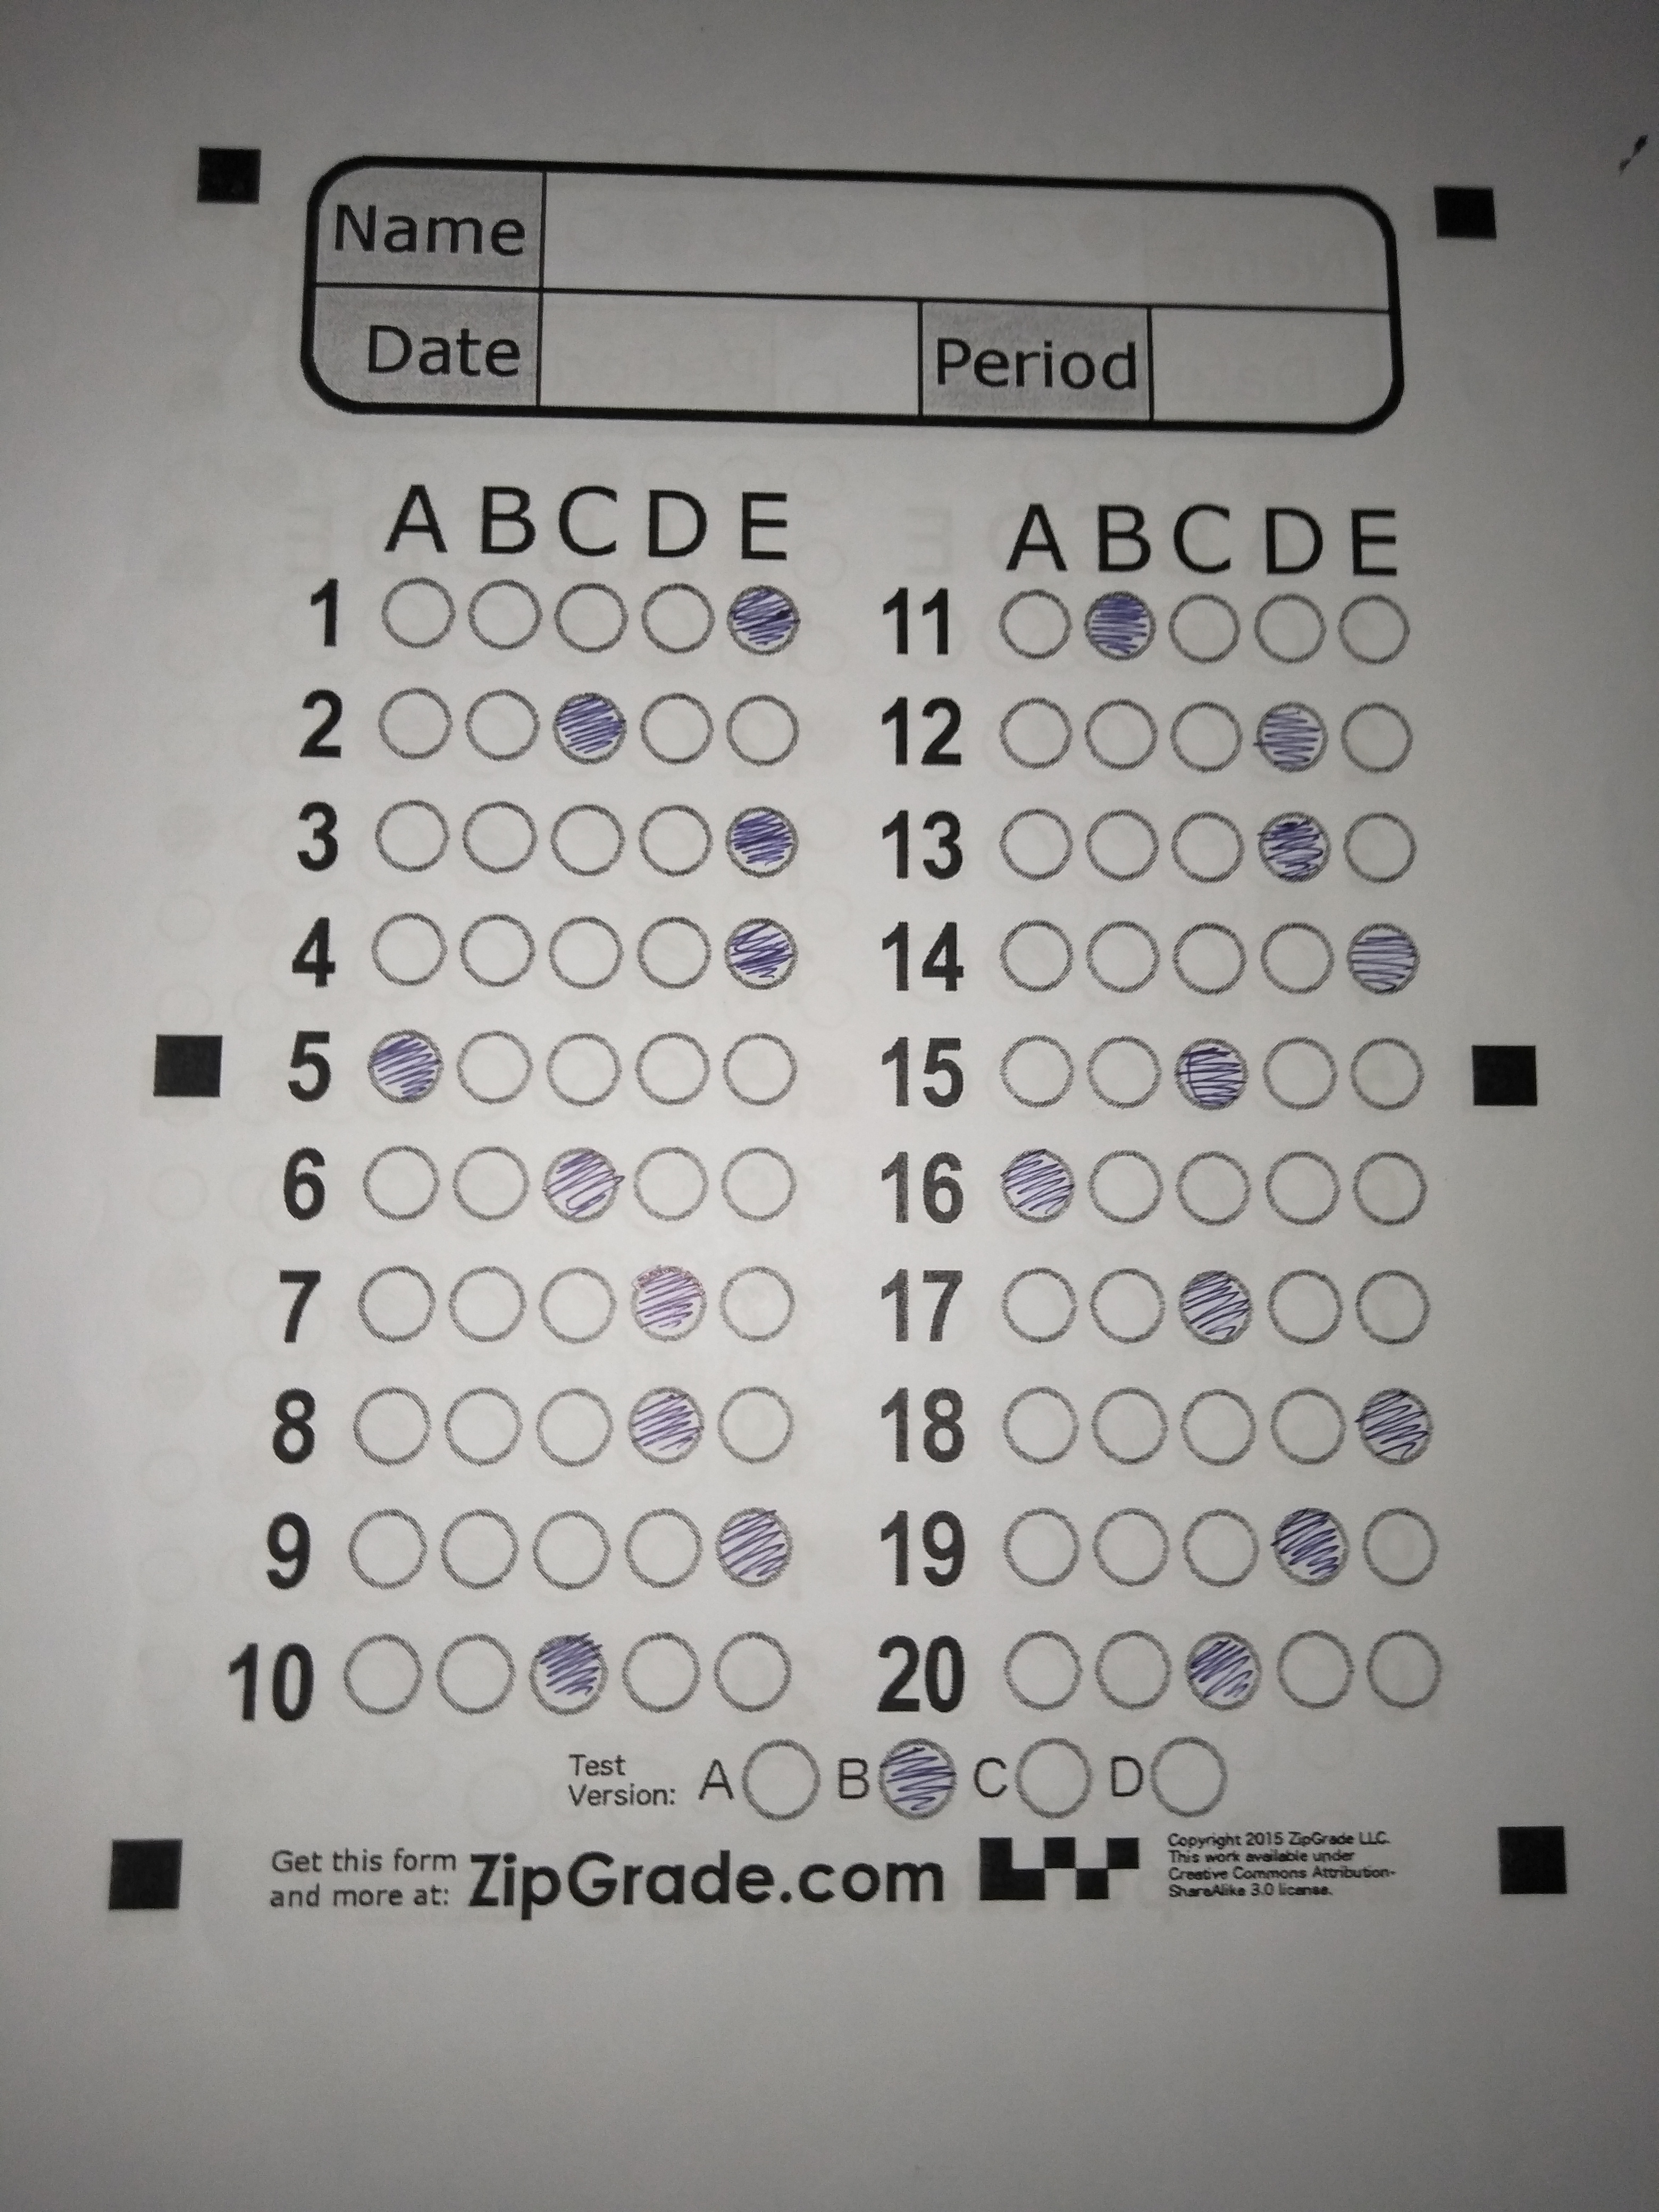not-c: (359, 897, 453, 995), (730, 1733, 828, 1825), (361, 570, 462, 657), (347, 1258, 443, 1348), (978, 909, 1077, 996), (352, 1137, 443, 1230), (362, 679, 453, 770), (331, 1625, 423, 1714), (434, 1494, 519, 1590), (338, 1498, 427, 1588), (1007, 1733, 1098, 1822), (978, 799, 1077, 880), (525, 1500, 612, 1590), (342, 1383, 436, 1467), (460, 899, 540, 996), (995, 1622, 1084, 1709), (549, 900, 629, 996), (716, 1374, 800, 1465), (622, 1498, 706, 1588), (1084, 907, 1164, 1001), (619, 1630, 704, 1717), (718, 690, 807, 773), (992, 1381, 1080, 1465), (1349, 1264, 1434, 1350), (1086, 1505, 1171, 1590), (544, 1021, 626, 1109), (985, 578, 1073, 660), (532, 1386, 617, 1470), (1351, 1141, 1434, 1226), (629, 1139, 713, 1224), (716, 1258, 798, 1345), (451, 1137, 533, 1224), (437, 1627, 518, 1716), (1175, 1144, 1255, 1233), (988, 1031, 1079, 1109), (629, 796, 714, 878), (634, 902, 716, 988), (538, 1259, 620, 1345), (1267, 1379, 1349, 1465), (1361, 1503, 1441, 1590), (462, 792, 544, 876), (1166, 801, 1251, 881), (457, 1021, 535, 1108), (450, 1259, 528, 1346), (469, 570, 544, 660), (1166, 693, 1248, 775), (464, 683, 544, 766), (549, 794, 629, 878), (1150, 1735, 1230, 1818), (1180, 1507, 1263, 1587), (1274, 1627, 1354, 1710), (371, 794, 457, 873), (1173, 909, 1249, 996), (1086, 1144, 1166, 1226), (1086, 1264, 1166, 1346), (720, 1141, 803, 1219), (995, 1264, 1079, 1343), (1260, 911, 1337, 996), (634, 1021, 709, 1108), (714, 1632, 795, 1712), (1000, 1507, 1080, 1587), (721, 1028, 800, 1109), (1093, 1629, 1171, 1710), (1363, 1629, 1445, 1707), (988, 695, 1072, 772), (1265, 1264, 1342, 1348), (1182, 1381, 1258, 1465), (1340, 808, 1420, 887), (1084, 1031, 1162, 1111), (1347, 1033, 1427, 1111), (444, 1385, 521, 1467), (1091, 1381, 1168, 1463), (554, 575, 631, 655), (641, 575, 716, 657), (1084, 799, 1159, 881), (1262, 1031, 1340, 1108), (640, 686, 713, 768), (1265, 1146, 1340, 1224), (1335, 592, 1415, 665), (1082, 693, 1157, 770), (1166, 592, 1244, 664), (1340, 698, 1413, 773), (1253, 594, 1326, 664)
taken-c: (528, 1627, 612, 1717), (1183, 1625, 1267, 1714), (878, 1733, 958, 1825), (714, 1500, 795, 1590), (626, 1379, 708, 1467), (1270, 1501, 1352, 1588), (627, 1256, 708, 1345), (1358, 1379, 1438, 1467), (1344, 918, 1424, 1001), (999, 1143, 1077, 1228), (723, 798, 802, 881), (721, 909, 800, 991), (540, 1143, 619, 1224), (368, 1024, 444, 1108), (1180, 1264, 1256, 1348), (727, 578, 803, 660), (1175, 1033, 1251, 1113), (554, 686, 629, 768), (1255, 697, 1331, 775), (1258, 806, 1333, 885), (1084, 585, 1159, 662)
